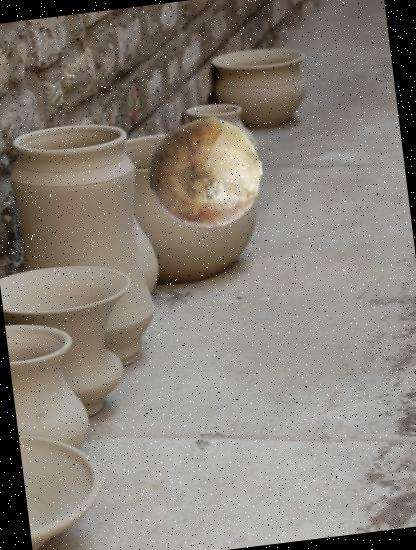Onion: (142, 110, 269, 237)
